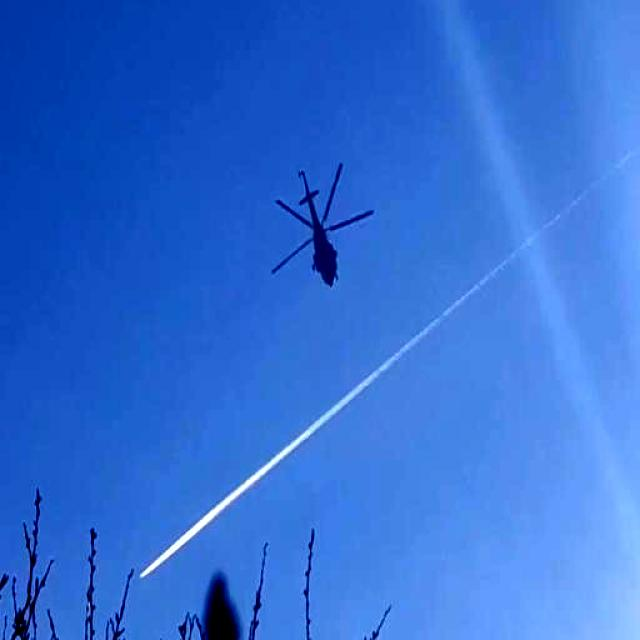drone: (265, 149, 380, 291)
